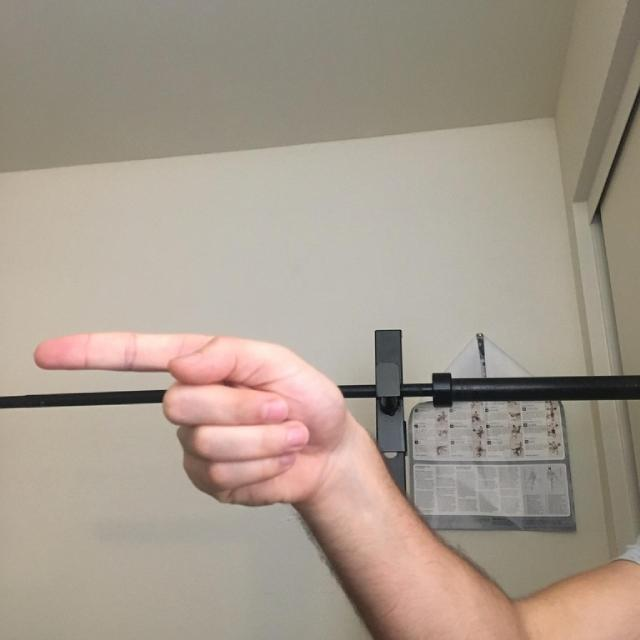G: (10, 294, 410, 551)
